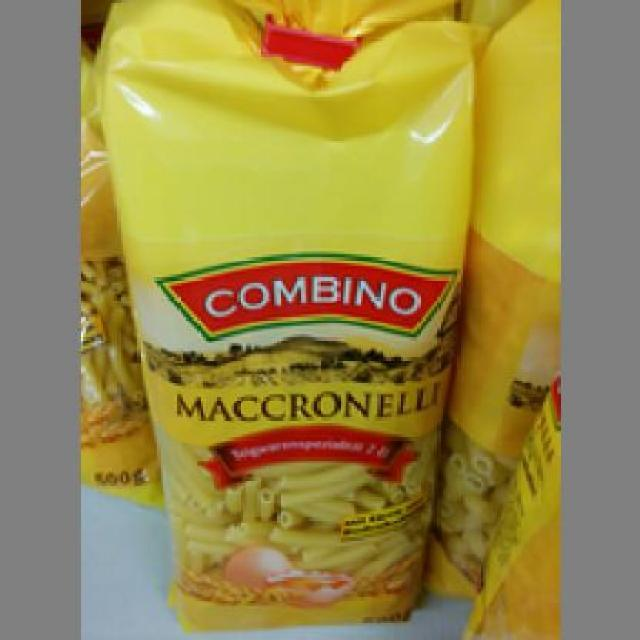Pasta: (92, 0, 474, 629)
